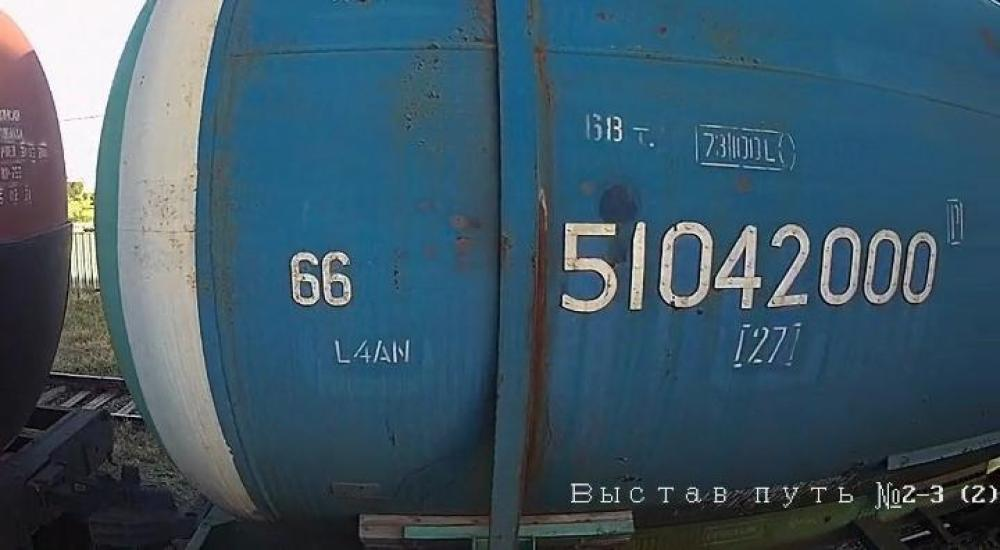Wagon-number: (552, 213, 947, 315)
